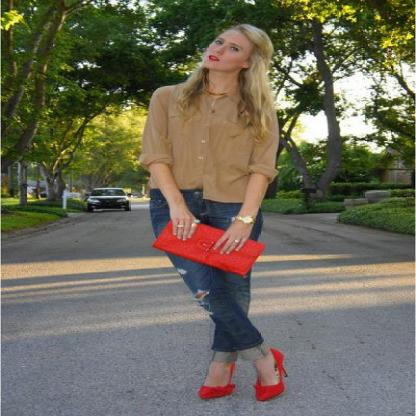bag: (153, 225, 261, 274)
pants: (149, 187, 263, 367)
shirt: (128, 83, 277, 203)
shoe: (199, 346, 287, 400)
